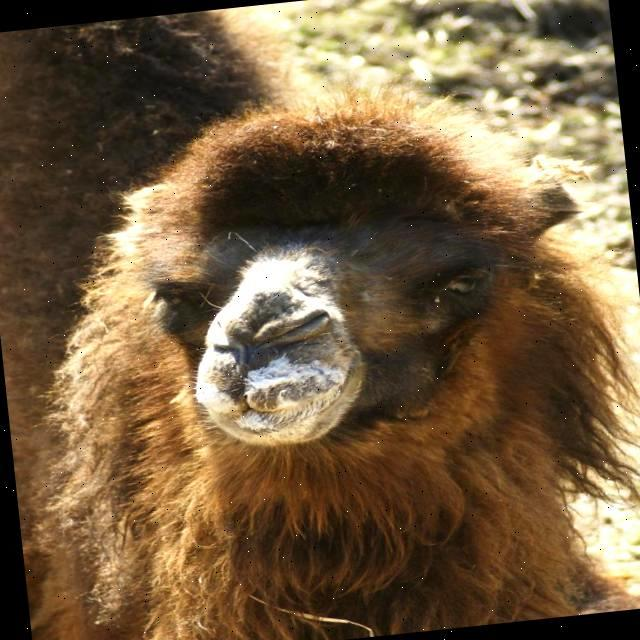sheep: (0, 59, 640, 640)
